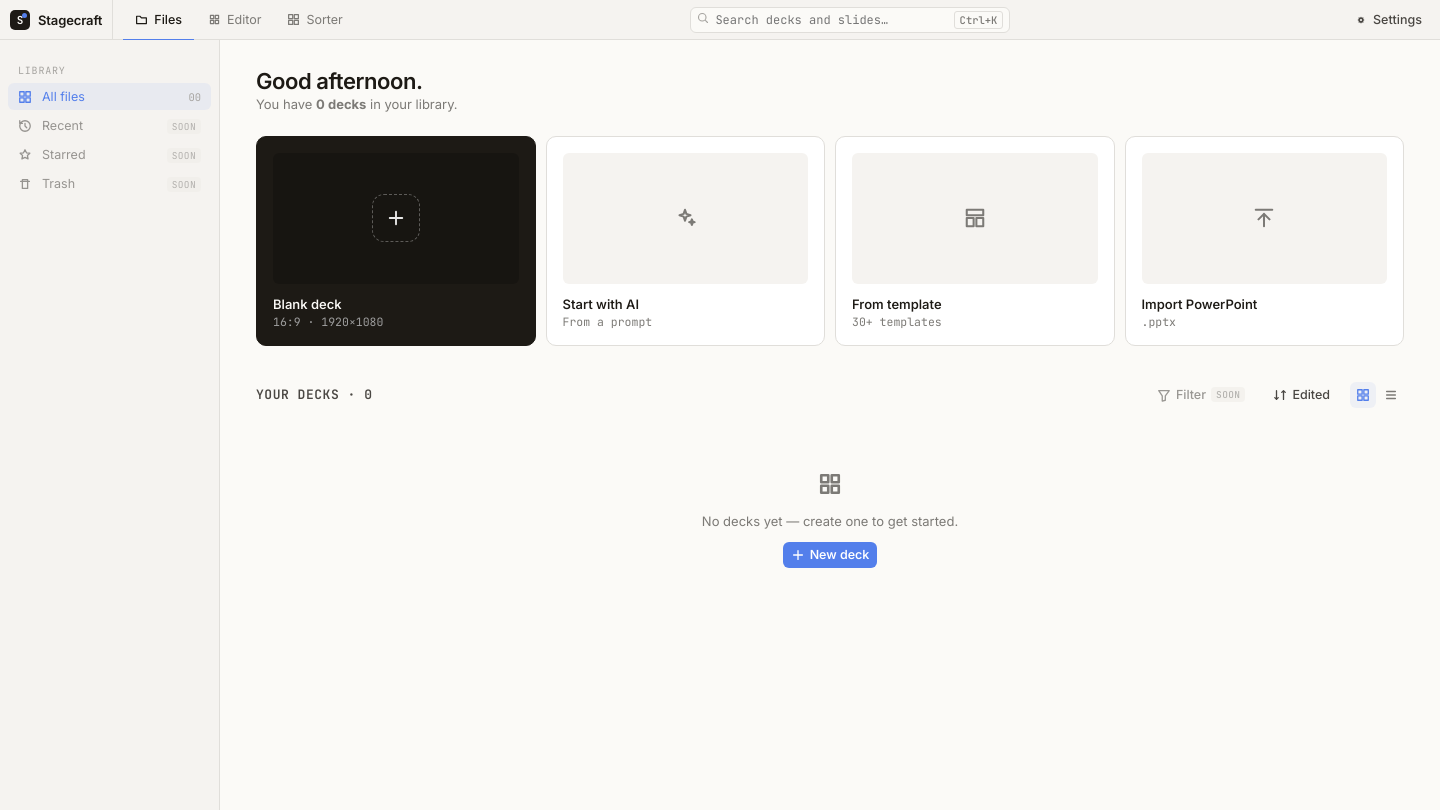
it: Start with AI › keeps the dialog open with an error when the new deck cannot be opened
Click the text "Start with AI" at (601, 304), box [562,296,639,312]
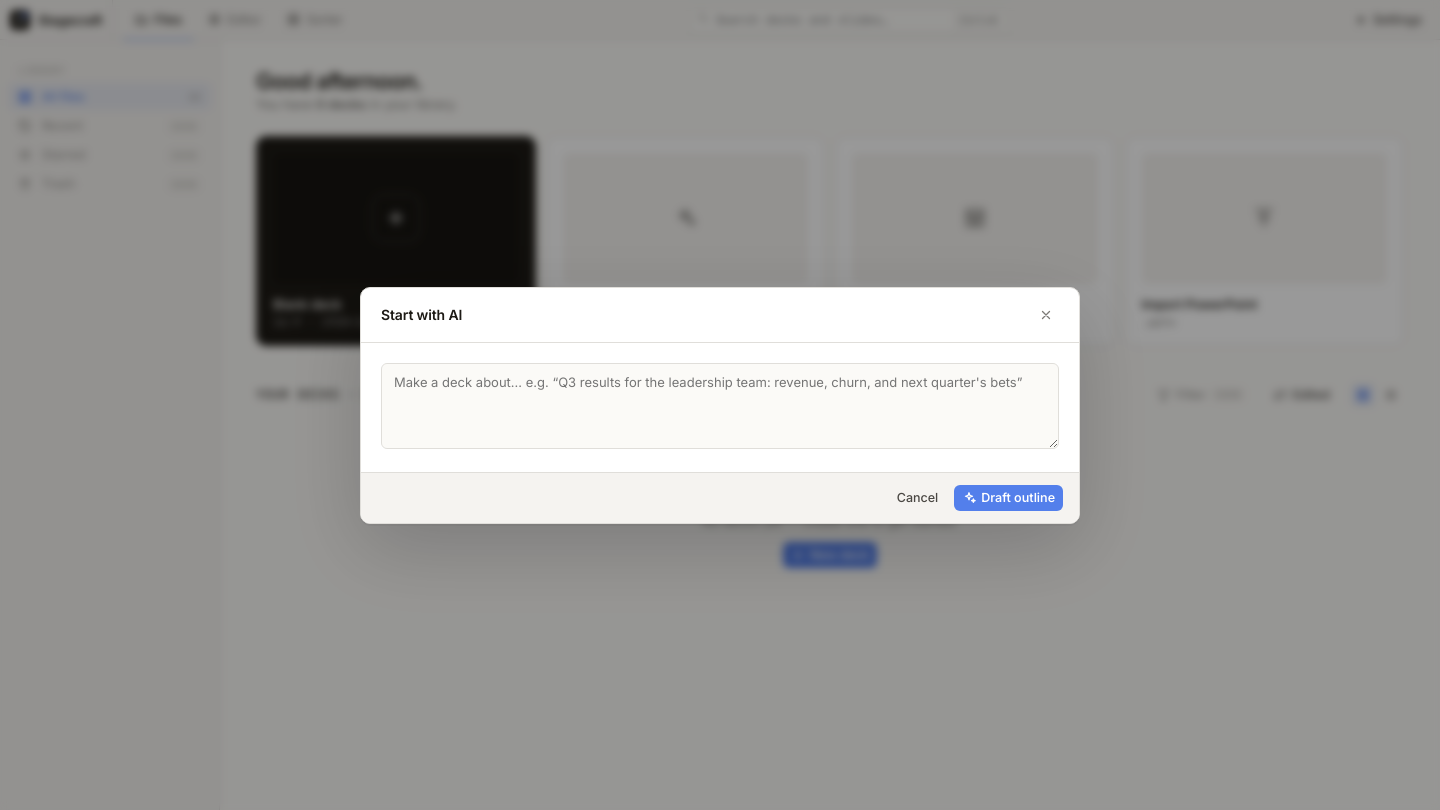
Replace the text in the text box named "Deck topic" with "Q3" at (720, 406), box [381,362,1059,448]
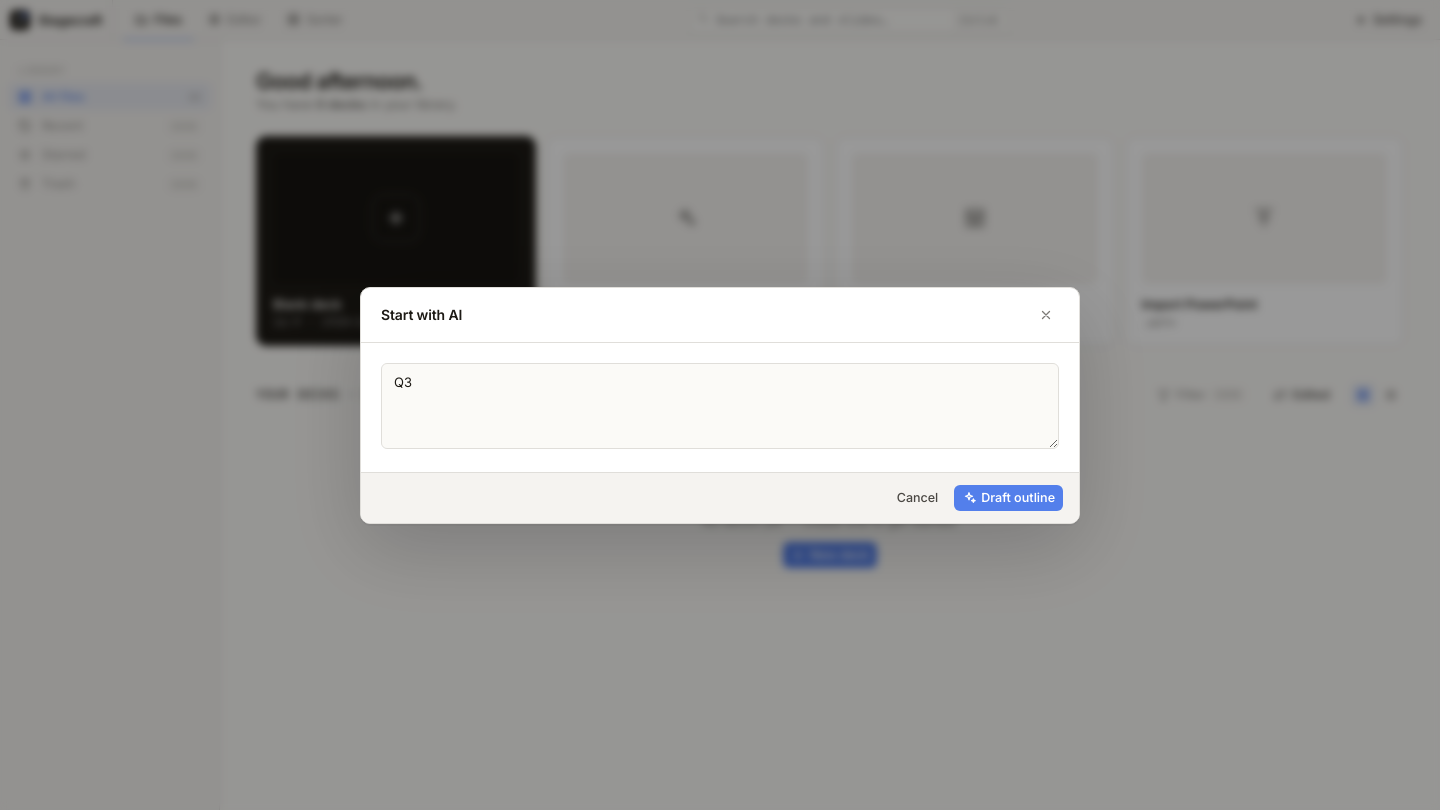
Click the button "Draft outline" at (1009, 498), box [954,484,1063,510]
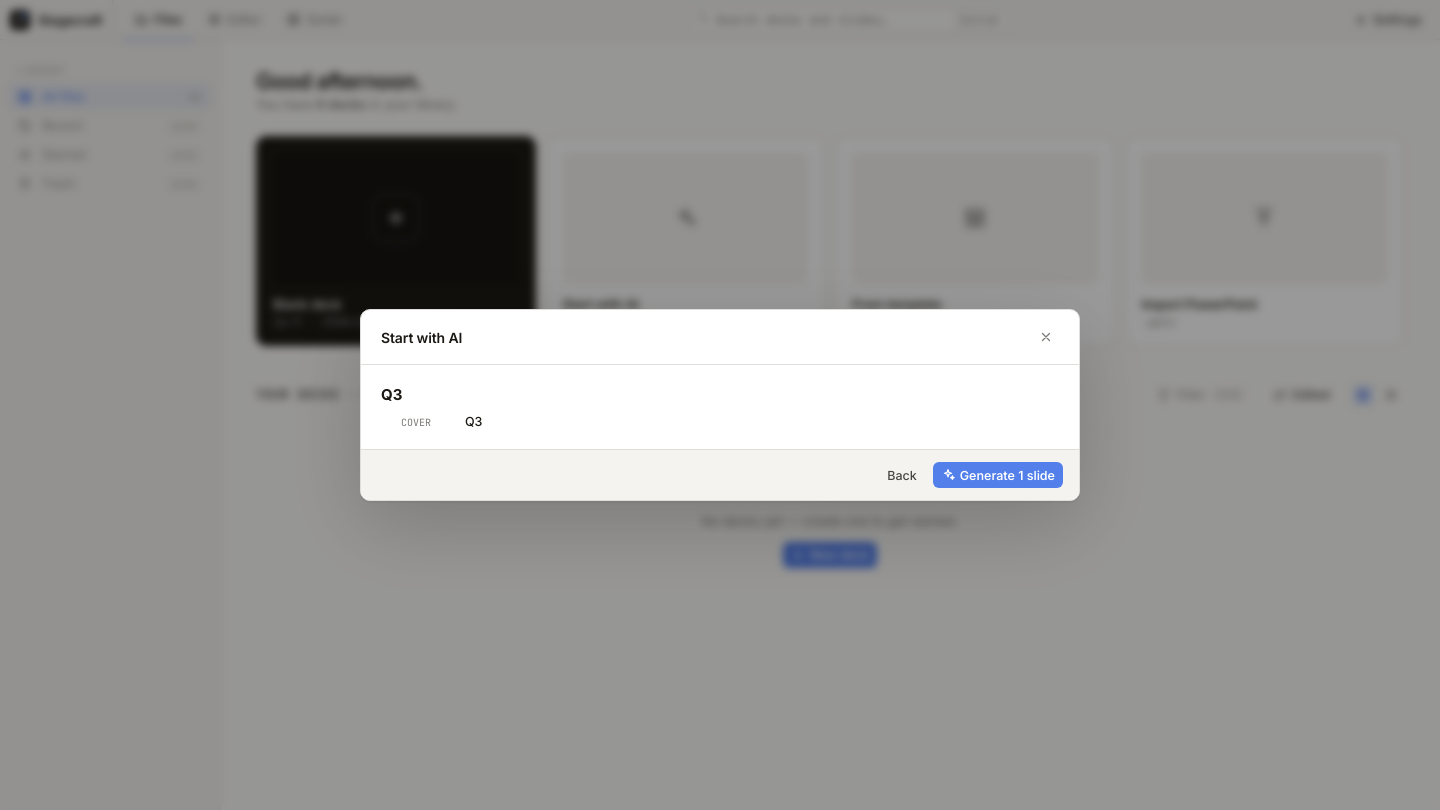
Click the button "Generate 1 slide" at (998, 475), box [933,462,1063,488]
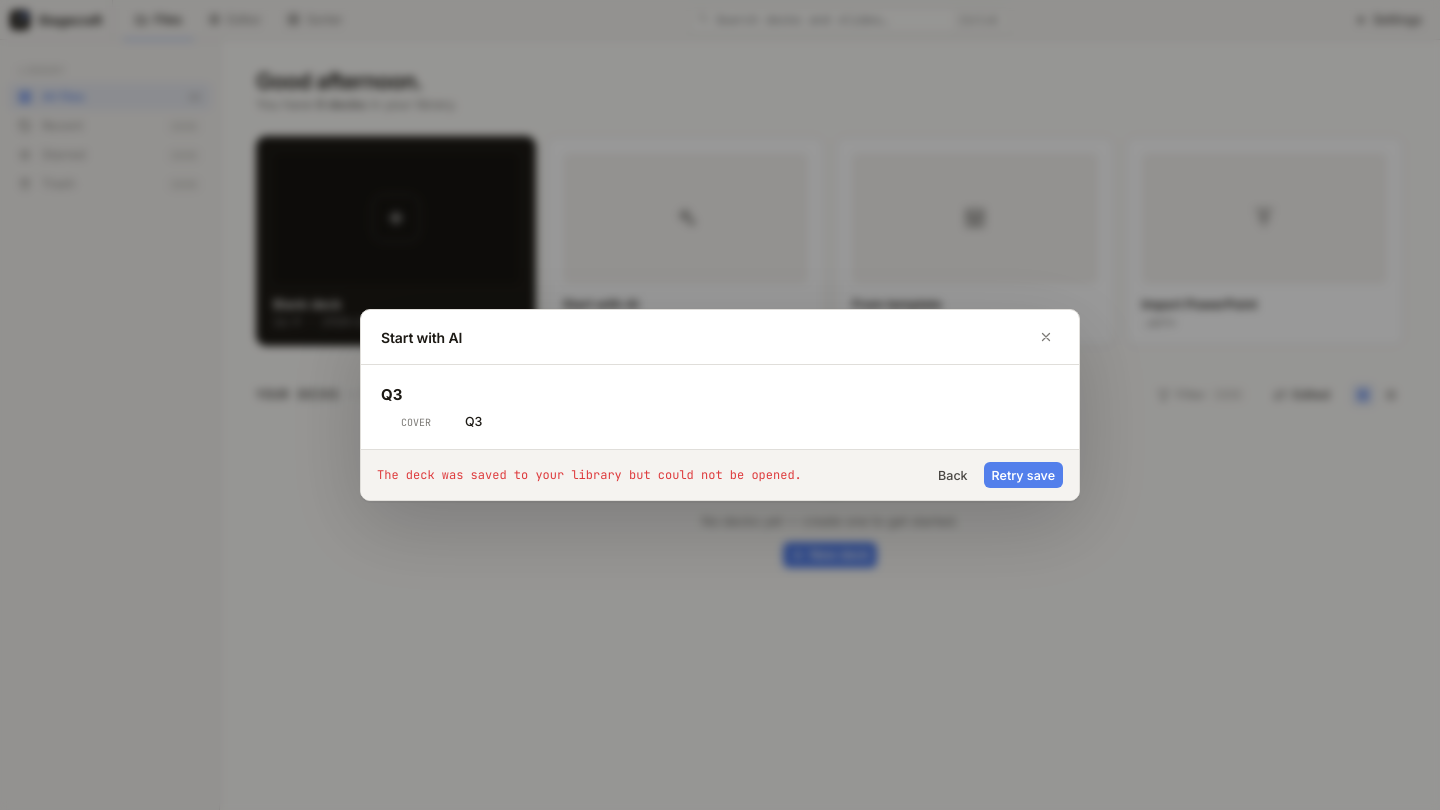
Check: the message shows "saved to your library but could not be opened", box [377,467,802,483]
